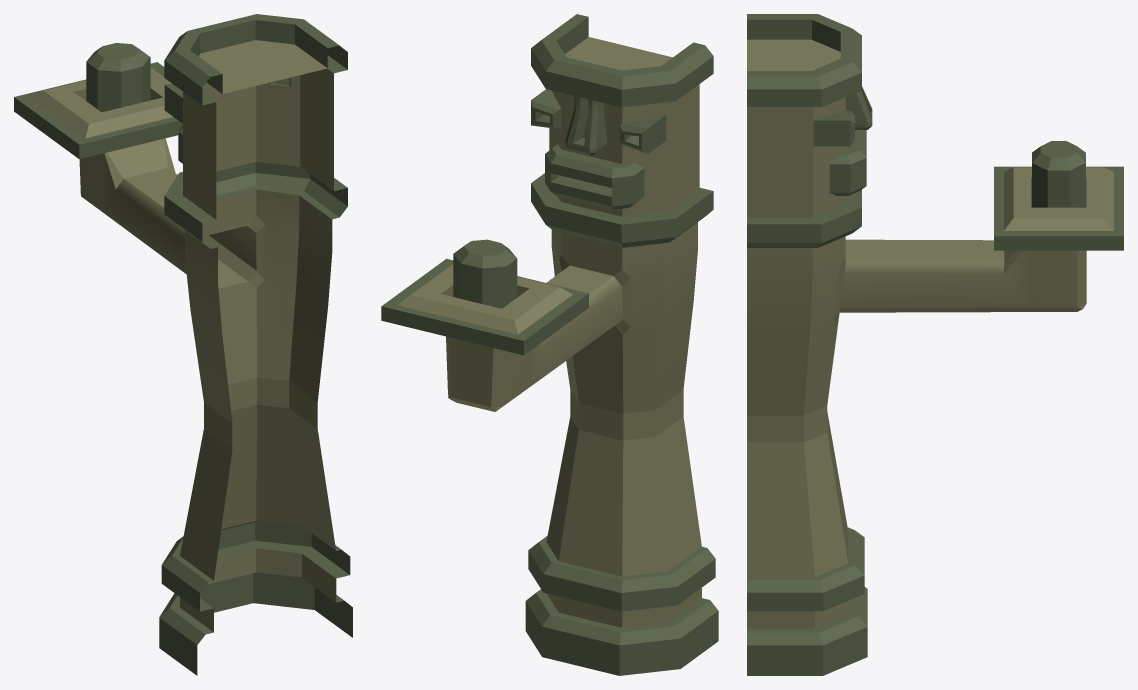
File: lantern1_face.fbx
3 views of the same model, side by side, from view 1: azimuth 30°, elevation 25°; view 2: azimuth 150°, elevation 25°; view 3: azimuth 270°, elevation 25° (orthographic).
Parts seen in each view (by area): view 1: lantern1_body, lantern1_light; view 2: lantern1_body, lantern1_light; view 3: lantern1_body, lantern1_light.
Boxes of the visible parts, x1,y1,x2,y2 form: lantern1_body: [14, 14, 352, 675]; lantern1_light: [86, 43, 150, 112]; lantern1_body: [381, 14, 718, 675]; lantern1_light: [453, 239, 517, 308]; lantern1_body: [747, 14, 1123, 675]; lantern1_light: [1032, 141, 1085, 207].
Bounding box in the file's own units: 0.7815 × 2.86 × 1.65.
